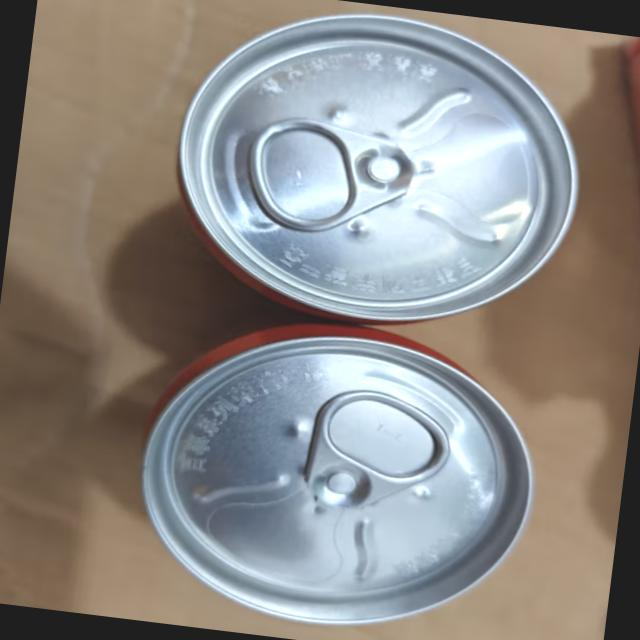can: (158, 0, 601, 346), (116, 300, 553, 640)
